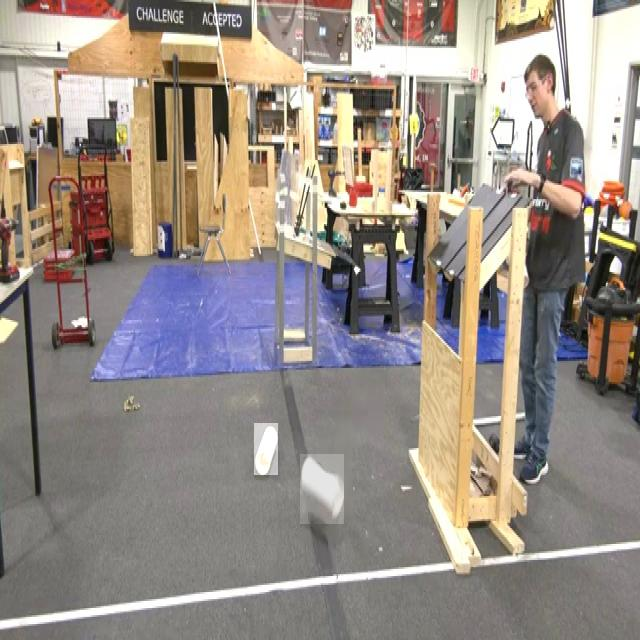Coral: (300, 454, 344, 524), (254, 423, 278, 475)
